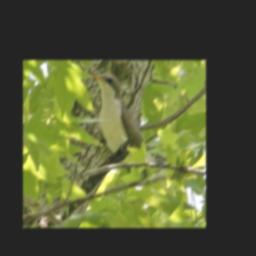Cuckoo: (88, 70, 168, 178)
